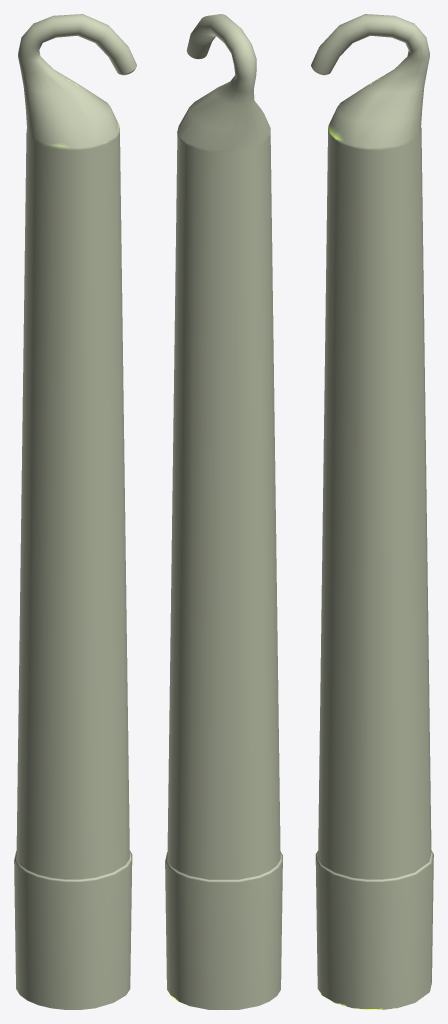
File: Glowstick.fbx
3 views of the same model, side by side, from view 1: azimuth 90°, elevation 25°; view 2: azimuth 210°, elevation 25°; view 3: azimuth 270°, elevation 25° (orthographic).
Parts seen in each view (by area): view 1: pCylinder5; view 2: pCylinder5; view 3: pCylinder5.
Boxes of the visible parts, x1,y1,x2,y2 form: pCylinder5: (14, 14, 136, 1009); pCylinder5: (165, 14, 282, 1009); pCylinder5: (311, 14, 433, 1009).
Size of the model in its own units: 0.0219 by 0.1982 by 0.0227.
1 material, 1 textured.
